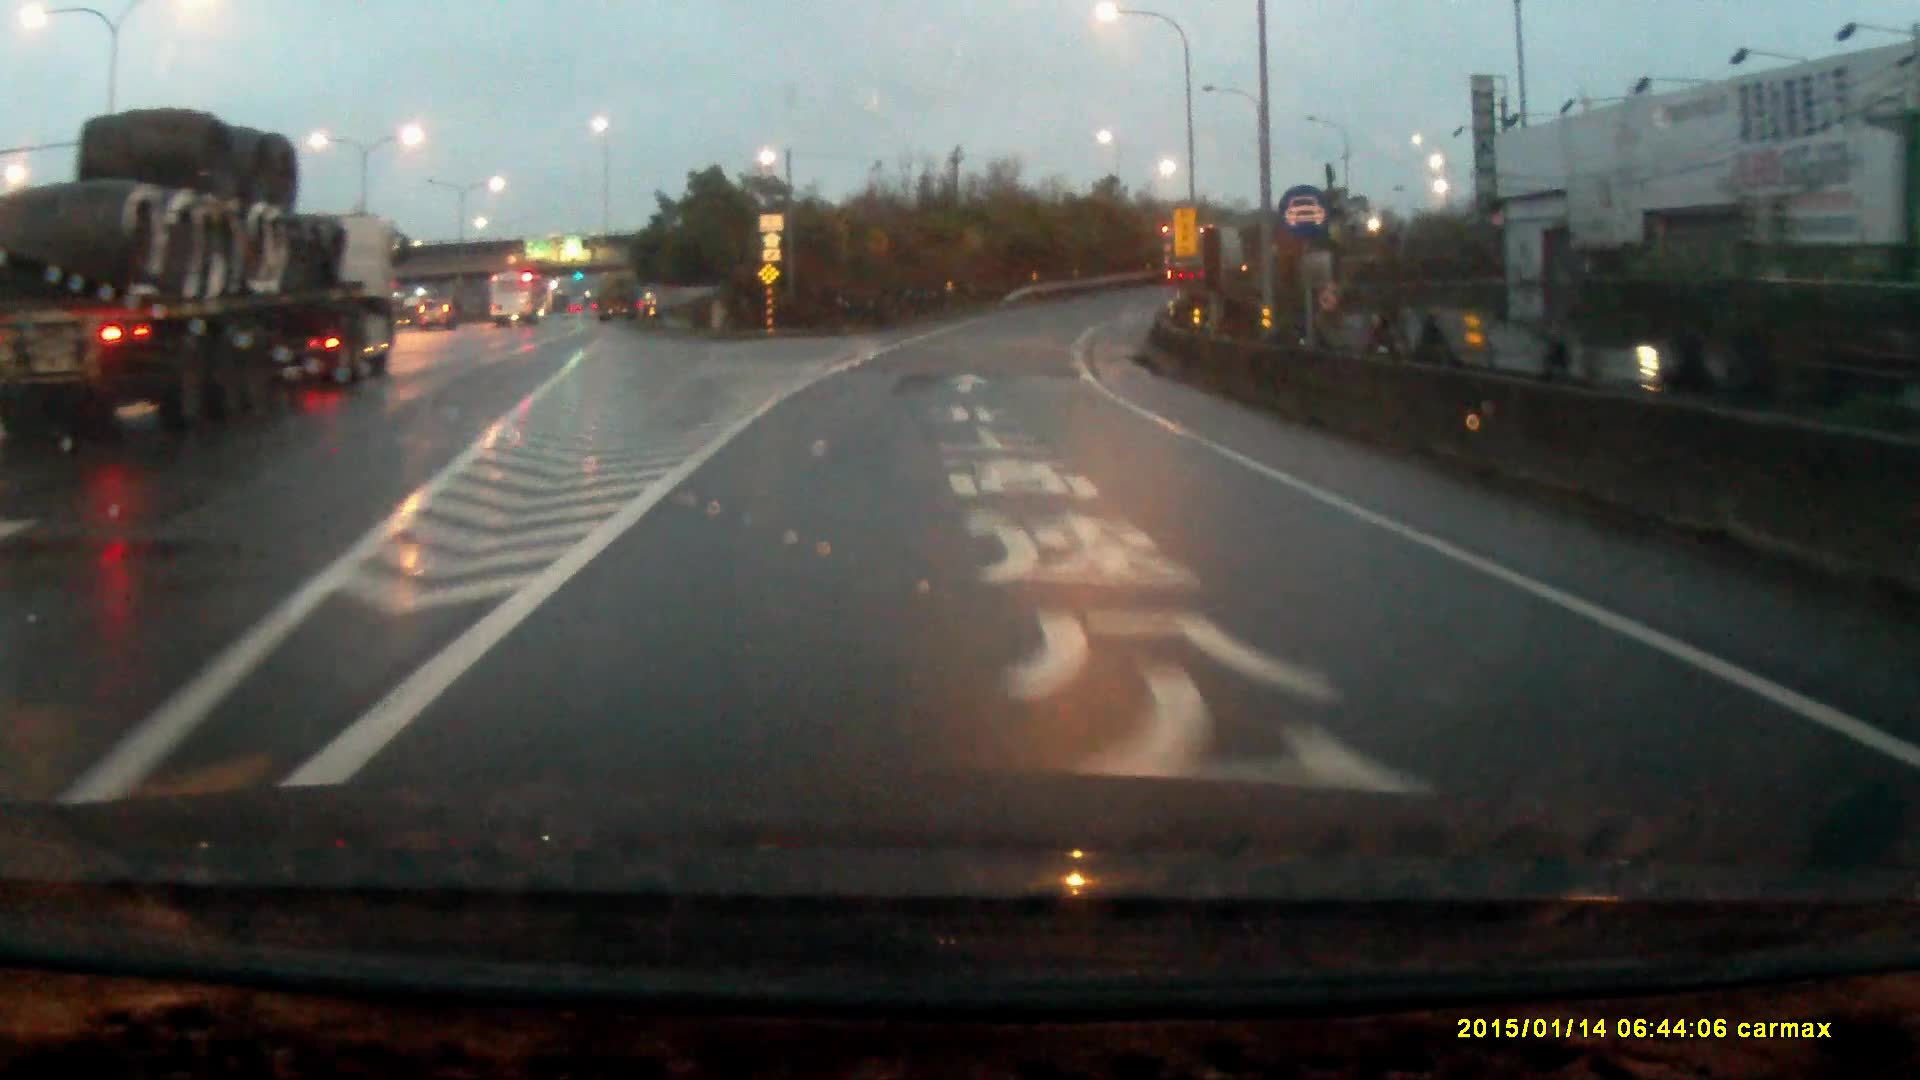vehicle: (7, 111, 397, 436), (491, 274, 550, 331), (418, 298, 458, 334)
